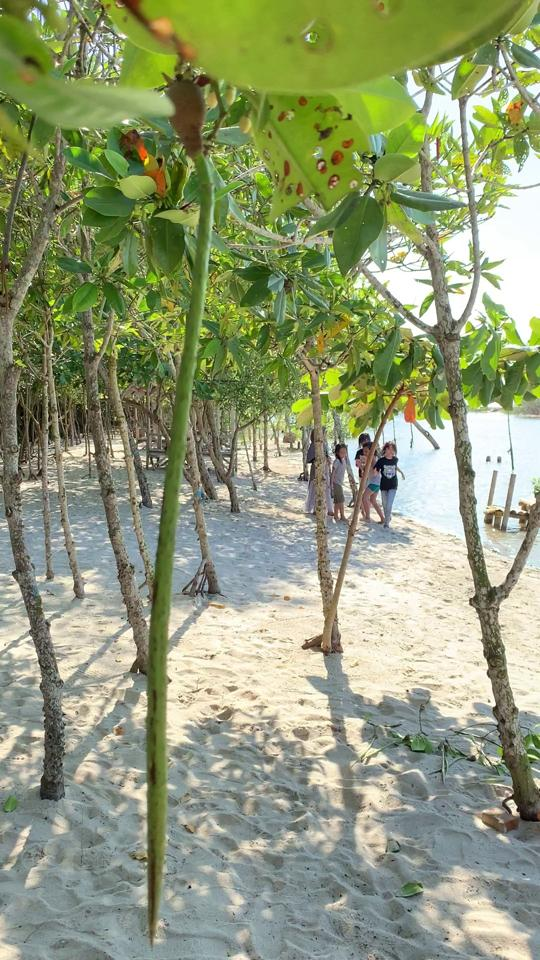mentah: (133, 62, 227, 955)
